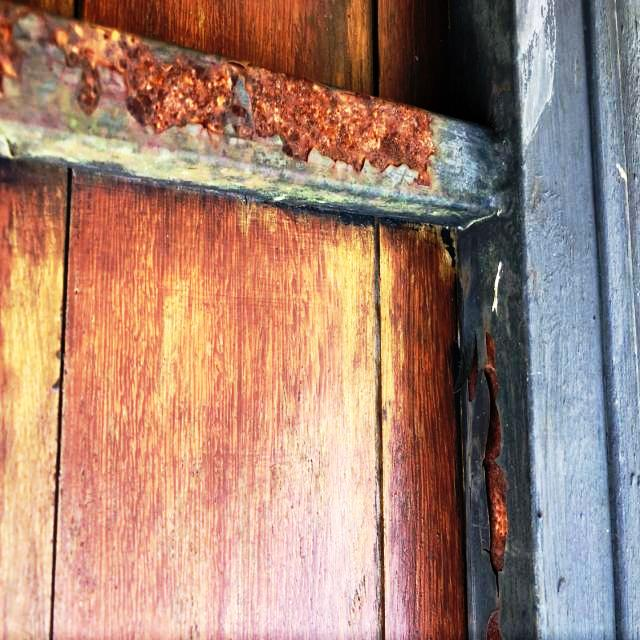Corrosion: (0, 0, 439, 189), (479, 325, 510, 608), (466, 338, 484, 406), (486, 609, 504, 640)
